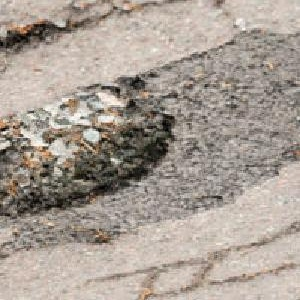pothole: (0, 74, 178, 220), (0, 17, 66, 54)
